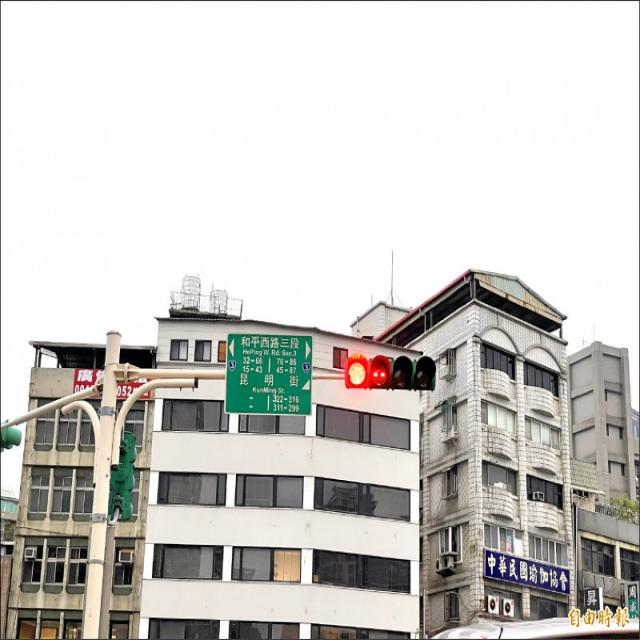red light: (342, 352, 437, 391)
